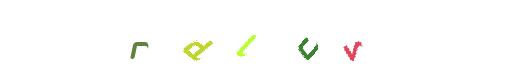C: (212, 0, 292, 80)
D: (201, 0, 281, 80)
L: (202, 0, 282, 80)
R: (172, 0, 252, 80)
V: (312, 0, 392, 80)
